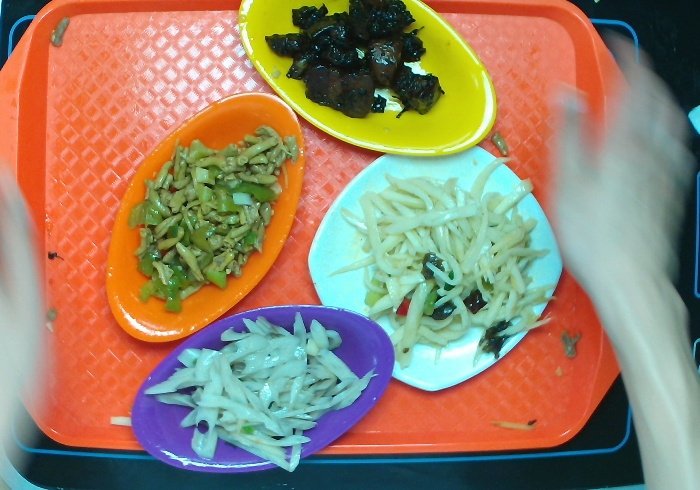RJxy-Fen_Hong_Tuo_Yuan: (129, 303, 392, 479)
RJxy-Huang_Se_Tuo_Yuan: (238, 1, 497, 160)
RJxy-Ju_Huang_Tuo_Yuan: (104, 91, 309, 348)
RJxy-Si_Fang_Die: (309, 136, 565, 393)
